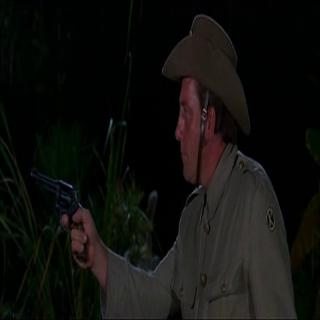gun: (31, 162, 96, 282)
